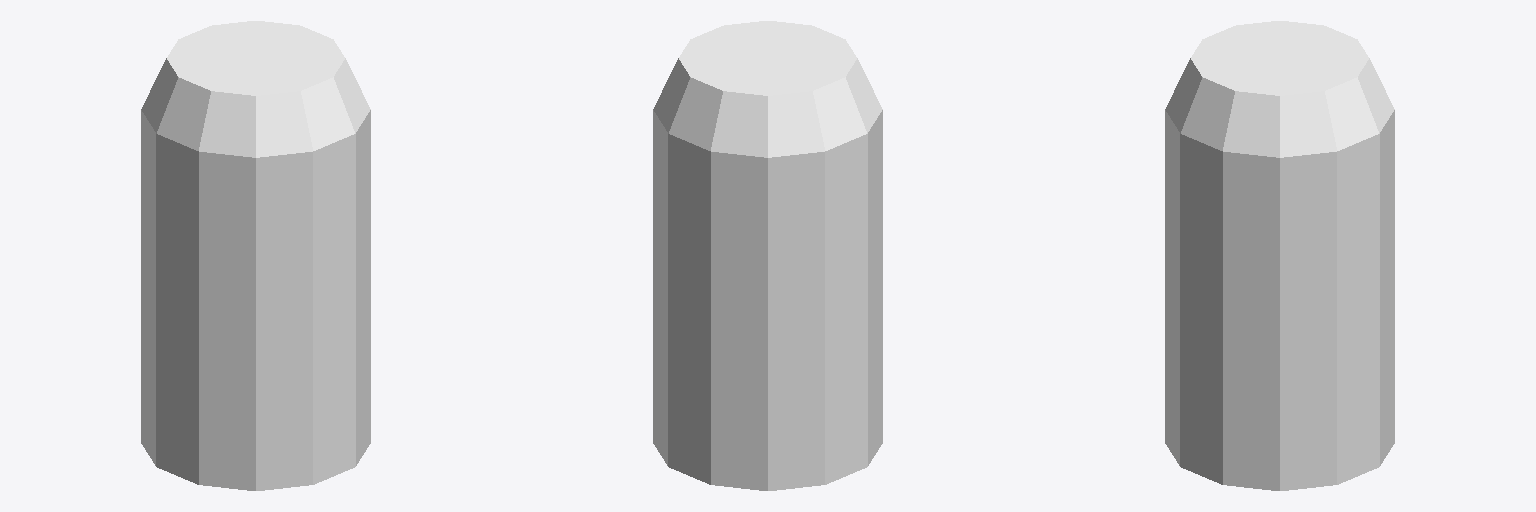
The robot description file, URDF, robot "coke_can":
<?xml version="1.0"?>
<robot name="coke_can">
  <link name="Can">
    <inertial>
      <origin rpy="0 0 0" xyz="0 0 0.06"/>
      <mass value="0.00"/>
      <inertia ixx="0" ixy="0" ixz="0" iyy="0" iyz="0" izz="0"/>
    </inertial>
    <visual>
      <origin rpy="0 0 0" xyz="0 0 0"/>
      <geometry>
        <mesh filename="coke_can_collision.obj" scale="1 1 1"/>
      </geometry>
      <material name="coke_can">
        <color rgba="1 1 1 1"/>
      </material>
    </visual>
    <collision>
      <origin rpy="0 0 0" xyz="0 0 0"/>
      <geometry>
        <cdf filename="coke_can_collision.cdf" scale="1 1 1"/>
      </geometry>
    </collision>
  </link>
</robot>

--- What the picture shows (computed from the rendered views, not written in the file) ---
The picture shows the robot from 3 angles, left to right: view 1: azimuth 30°, elevation 25°; view 2: azimuth 150°, elevation 25°; view 3: azimuth 270°, elevation 25°; orthographic projection.
Robot: coke_can — 1 links, 0 joints (none); root link Can; default pose: all joints at 0.
Links seen in each view (by area): view 1: Can; view 2: Can; view 3: Can.
Link boxes in pixels (<box>): Can: <box>141,21,370,490</box>; Can: <box>653,21,882,490</box>; Can: <box>1165,21,1394,490</box>.
Size in the robot's own frame: 0.0645 by 0.0645 by 0.1191 metres.
1 mesh visuals loaded from 1 distinct referenced files (1 OBJ).